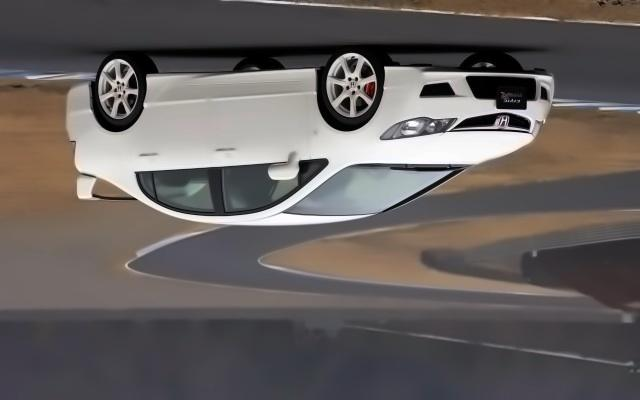Car hood: (355, 129, 536, 171)
Fender - -F-L-: (308, 65, 380, 170)
Fender - -R-L-: (85, 73, 142, 181)
Front bumper: (375, 60, 557, 127)
Headlight - -L-: (375, 110, 459, 144)
Headlight - -R-: (527, 116, 548, 146)
Passenger-s door - -F-L-: (214, 77, 309, 221)
Passenger-s door - -R-L-: (127, 74, 215, 216)
Rear bumper: (53, 77, 102, 137)
Rear light - -L-: (64, 134, 79, 166)
Side bumper - -L-: (132, 66, 323, 113)
Side mirror - -L-: (266, 147, 302, 185)
